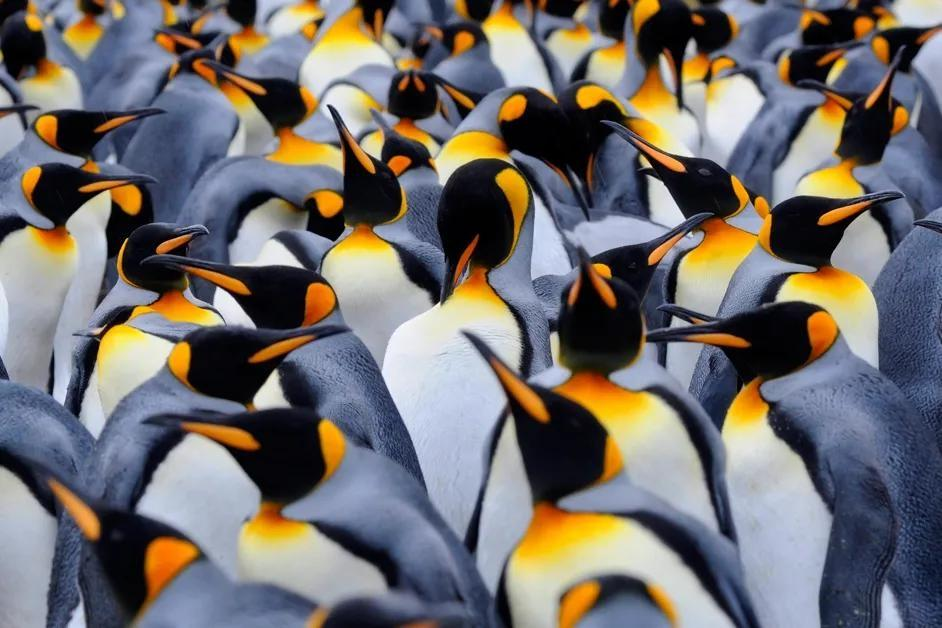Penguin: (648, 302, 941, 627), (467, 333, 755, 626), (149, 408, 489, 624), (151, 408, 489, 607), (86, 326, 350, 576), (383, 158, 552, 536), (151, 258, 423, 483), (534, 258, 734, 538), (33, 465, 316, 626), (0, 162, 150, 389), (64, 223, 222, 436), (178, 61, 341, 263), (718, 190, 901, 366), (320, 107, 443, 365), (604, 121, 757, 313), (726, 0, 870, 203), (52, 182, 153, 398), (569, 0, 702, 155), (121, 48, 238, 221), (874, 199, 942, 446), (795, 50, 902, 196), (682, 44, 778, 187), (842, 14, 942, 148), (0, 107, 161, 190), (434, 86, 568, 182), (0, 3, 74, 157), (367, 107, 445, 253), (469, 416, 531, 589), (90, 25, 200, 122), (296, 66, 433, 140), (294, 0, 404, 90), (414, 19, 504, 119), (478, 0, 551, 103), (540, 18, 611, 108), (833, 217, 890, 281), (79, 545, 121, 627), (692, 351, 736, 421), (432, 74, 482, 125), (532, 206, 565, 274), (662, 349, 698, 385)
